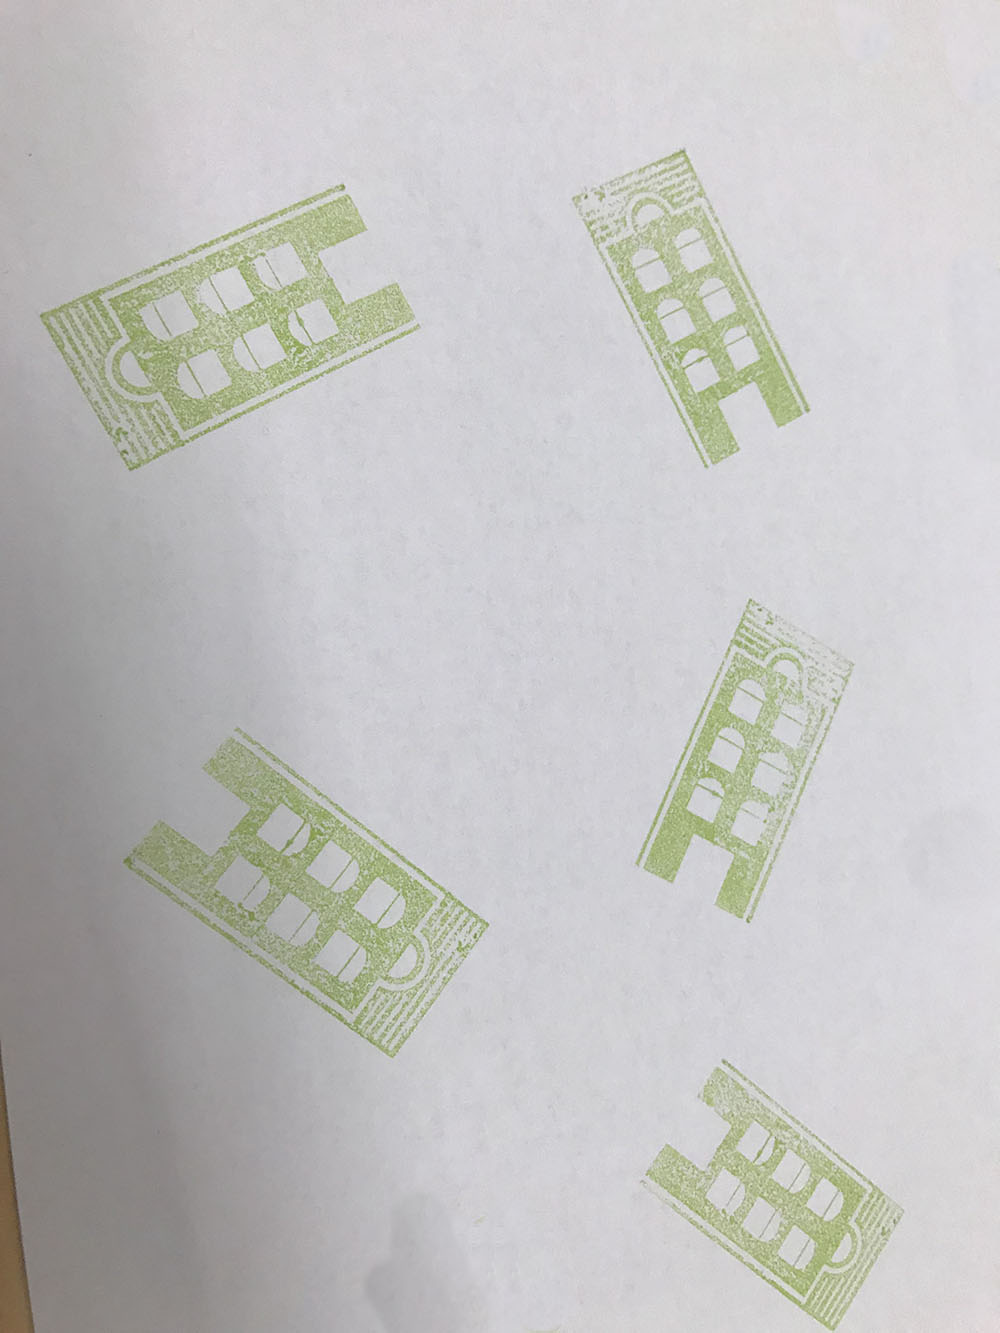build: (74, 686, 503, 1082), (24, 163, 431, 519), (549, 118, 832, 503), (617, 1036, 922, 1331), (627, 576, 863, 950)
